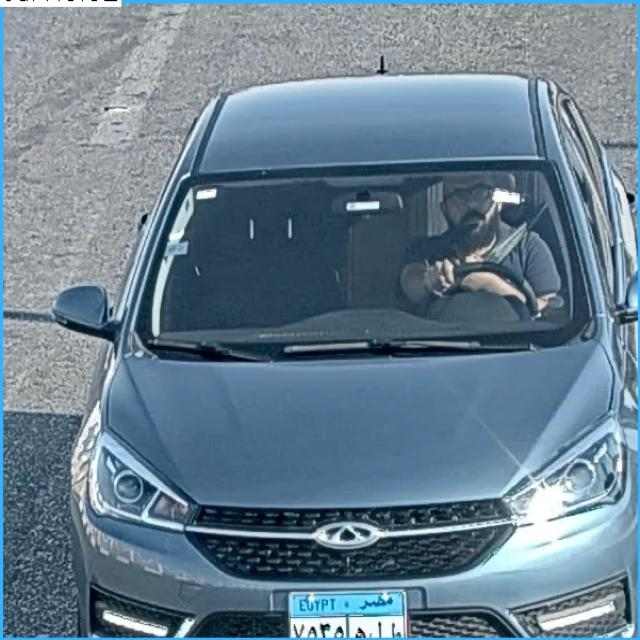windshield: (146, 164, 591, 343)
